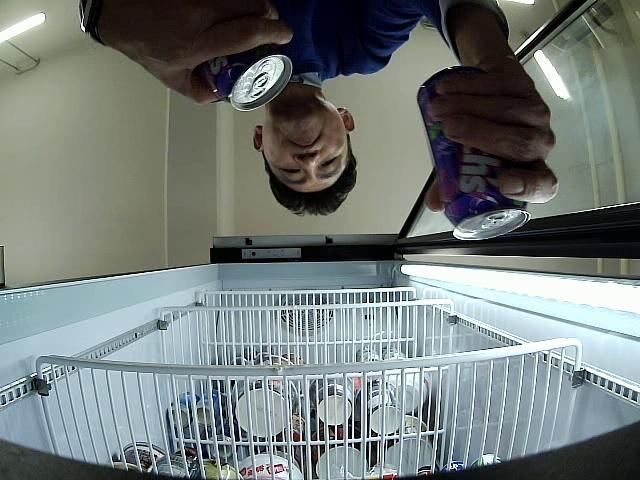14_welchsGrape: (418, 66, 530, 240), (197, 51, 293, 112)
